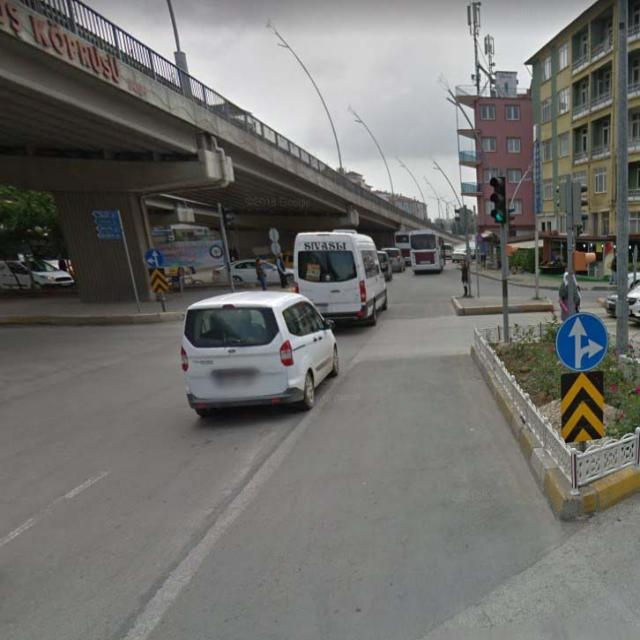ilerisag: (554, 314, 606, 370)
ilerisol: (145, 247, 162, 269)
yesil: (491, 176, 506, 224)
